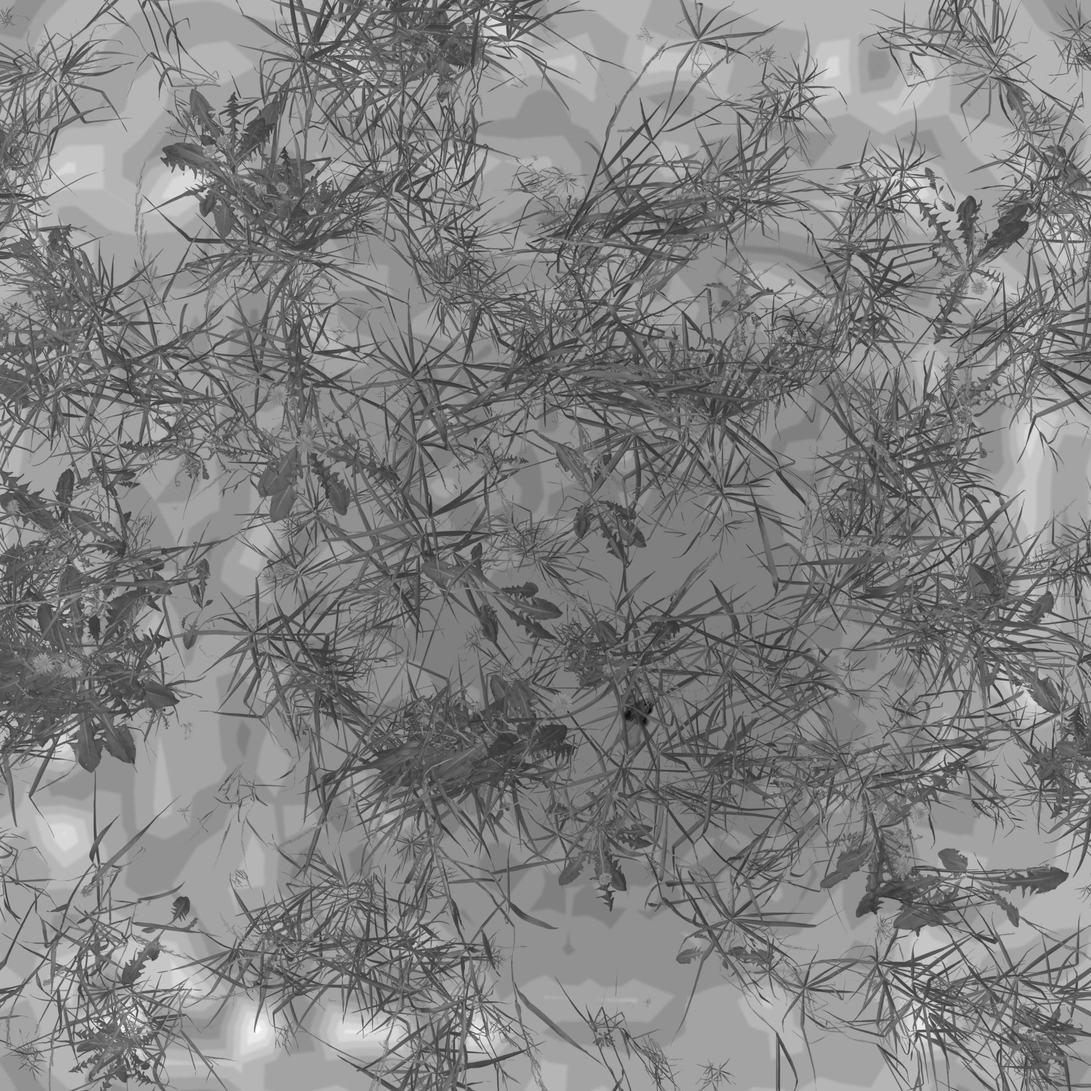landmine: (623, 698, 661, 750)
